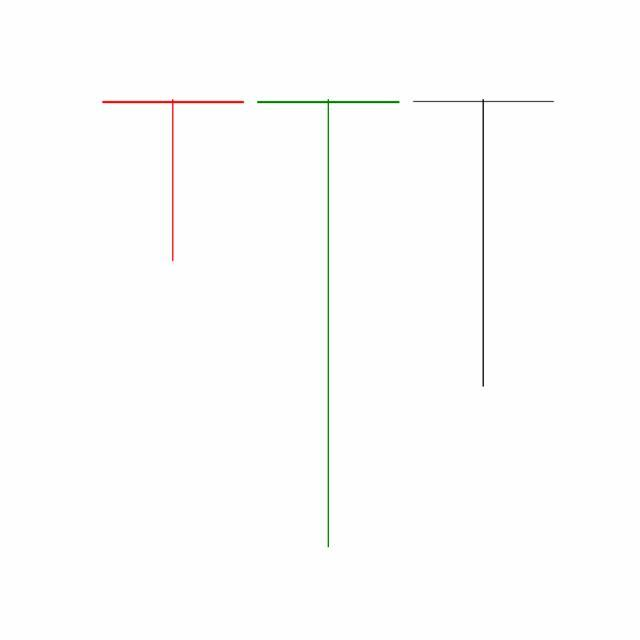Dragonfly Doji: (406, 97, 562, 391)
